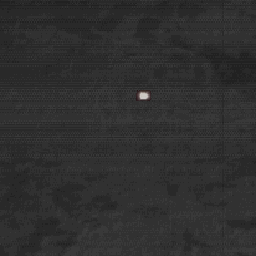Target: (135, 91, 149, 101)
